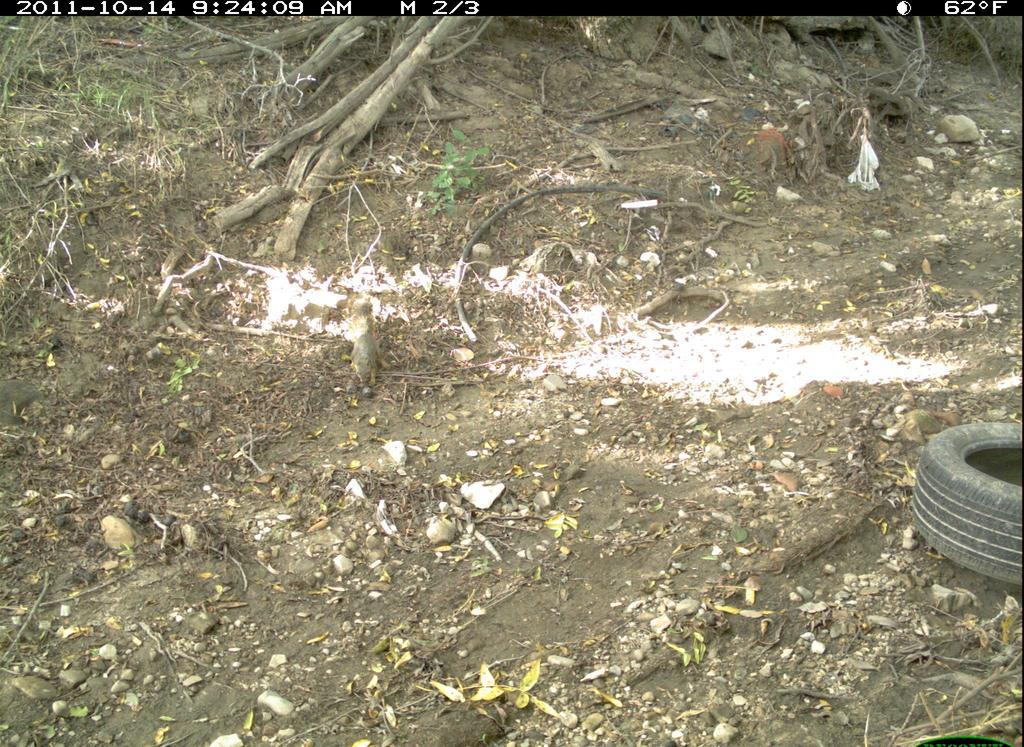squirrel: (326, 272, 396, 401)
